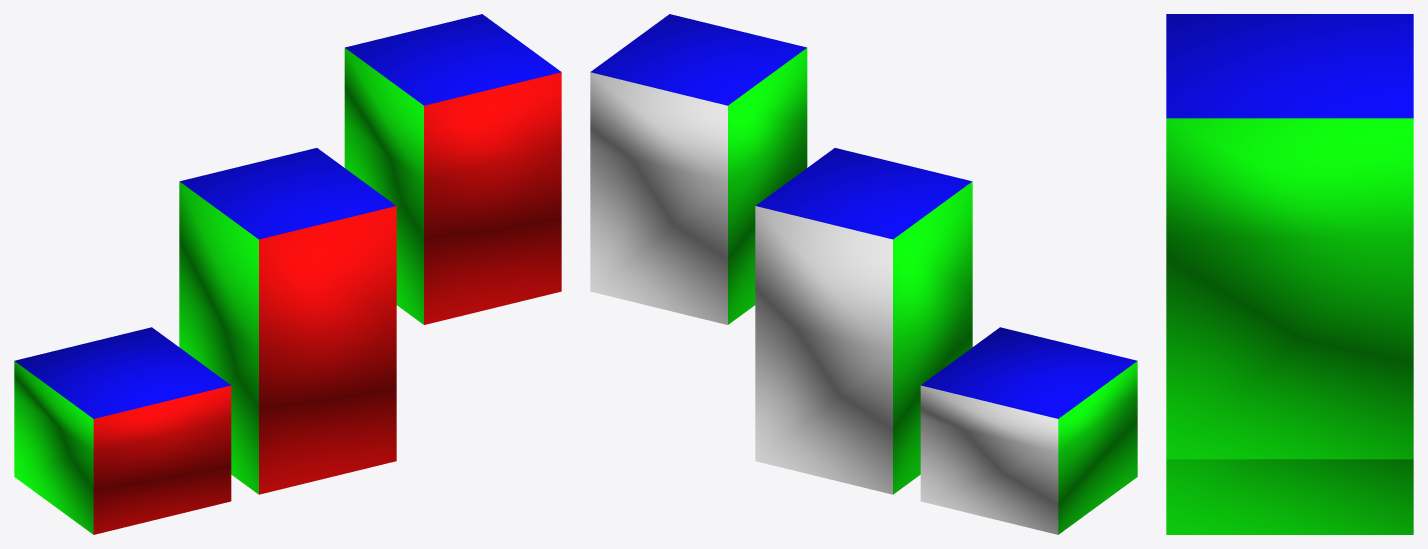
The model's file is builders.glb.
The picture shows the model from 3 angles, left to right: view 1: azimuth 30°, elevation 25°; view 2: azimuth 150°, elevation 25°; view 3: azimuth 270°, elevation 25°; orthographic projection. The views are drawn at different scales.
Visible parts, largest first — view 1: Builders_B, Builders_C, Builders_A; view 2: Builders_B, Builders_C, Builders_A; view 3: Builders_C, Builders_B.
Part boxes in pixels (<box>): Builders_B: <box>179,148,396,494</box>; Builders_C: <box>344,14,561,324</box>; Builders_A: <box>14,327,231,534</box>; Builders_B: <box>755,148,972,494</box>; Builders_C: <box>590,14,807,324</box>; Builders_A: <box>920,327,1137,534</box>; Builders_C: <box>1166,14,1413,459</box>; Builders_B: <box>1166,459,1413,534</box>.
Size of the model in its own units: 6.8 by 4.84 by 2.
